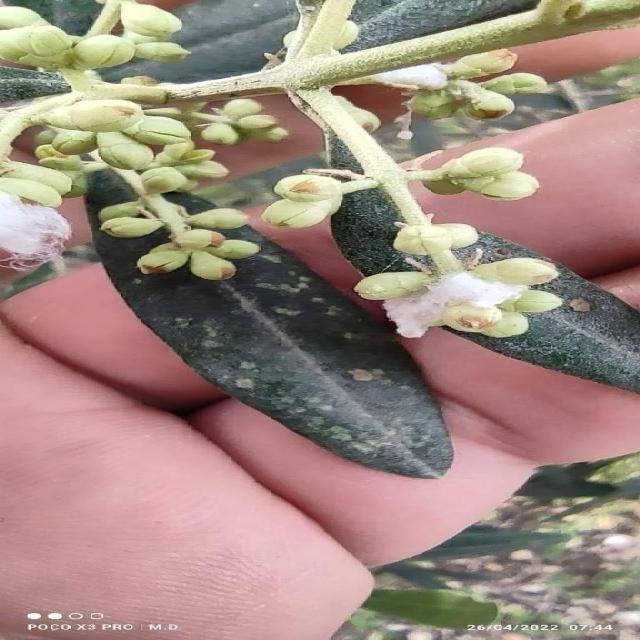Psyllid: (354, 248, 564, 338), (342, 54, 506, 104), (0, 190, 71, 279)
